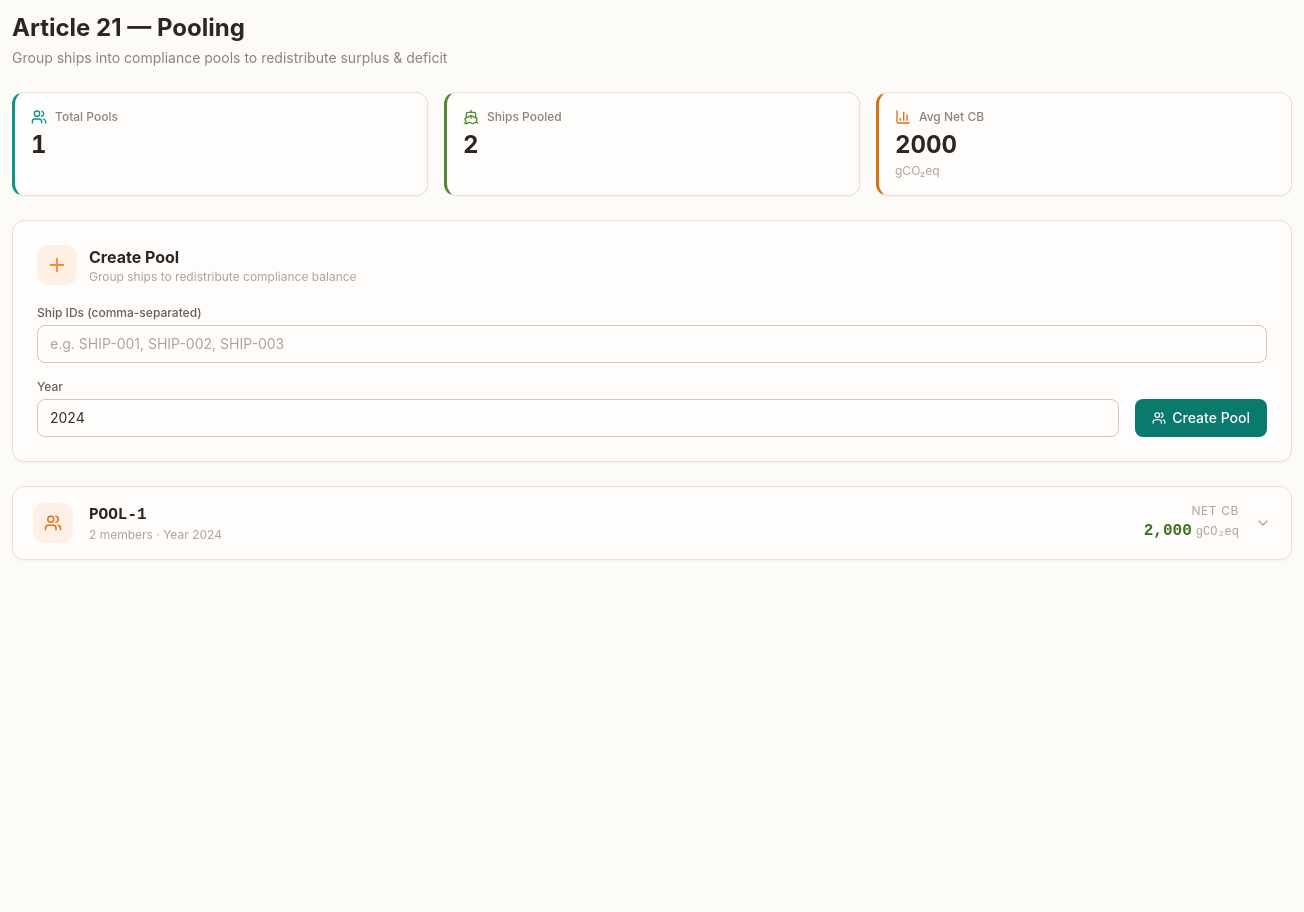
Test case: PoolingTab › expands pool to show members
Click the text "POOL-1": coordinates (118, 515) [89,506,147,524]
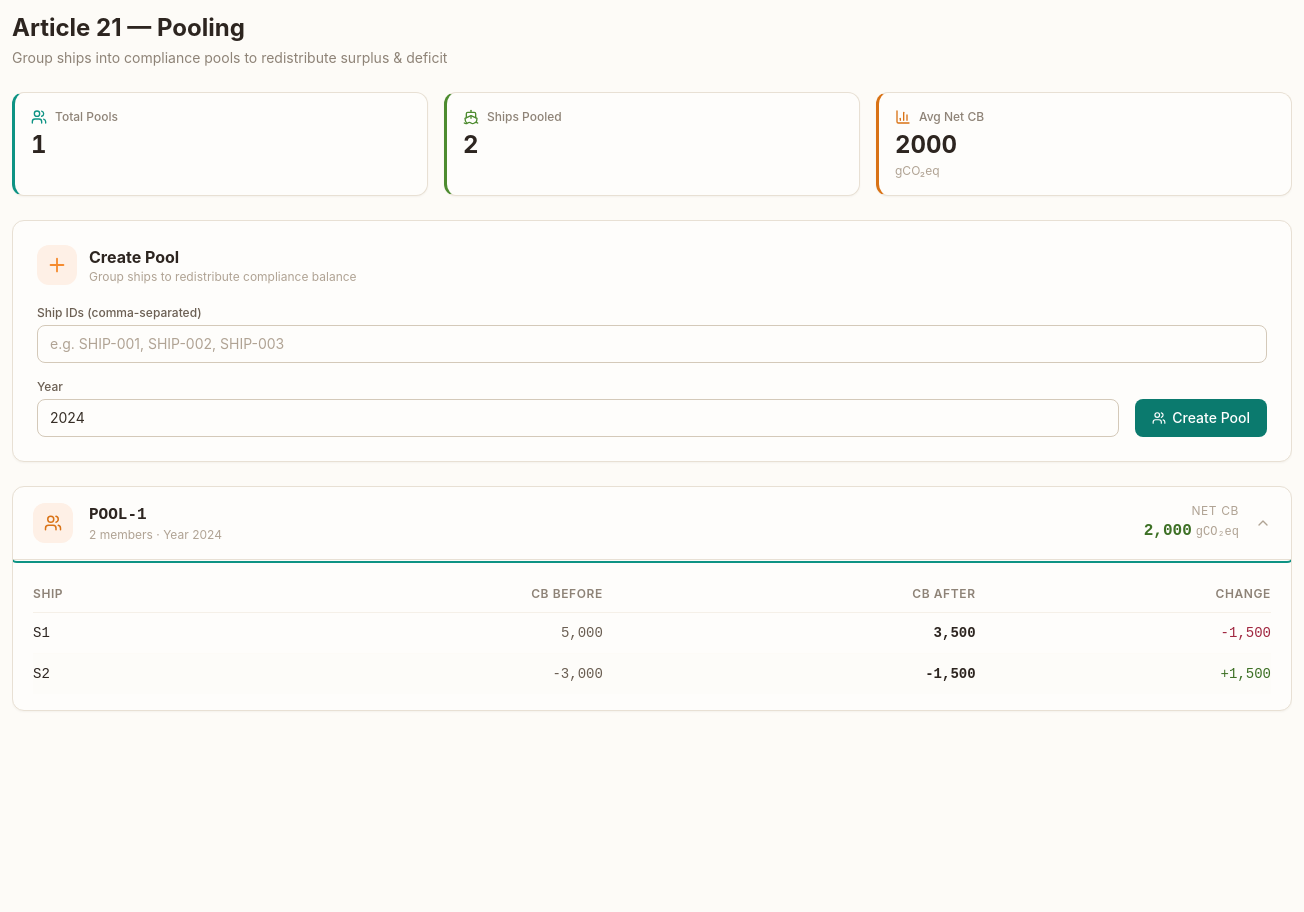
Result: the text "S1" is shown at [33,613,214,654]
Result: the text "S2" is shown at [33,654,214,694]
